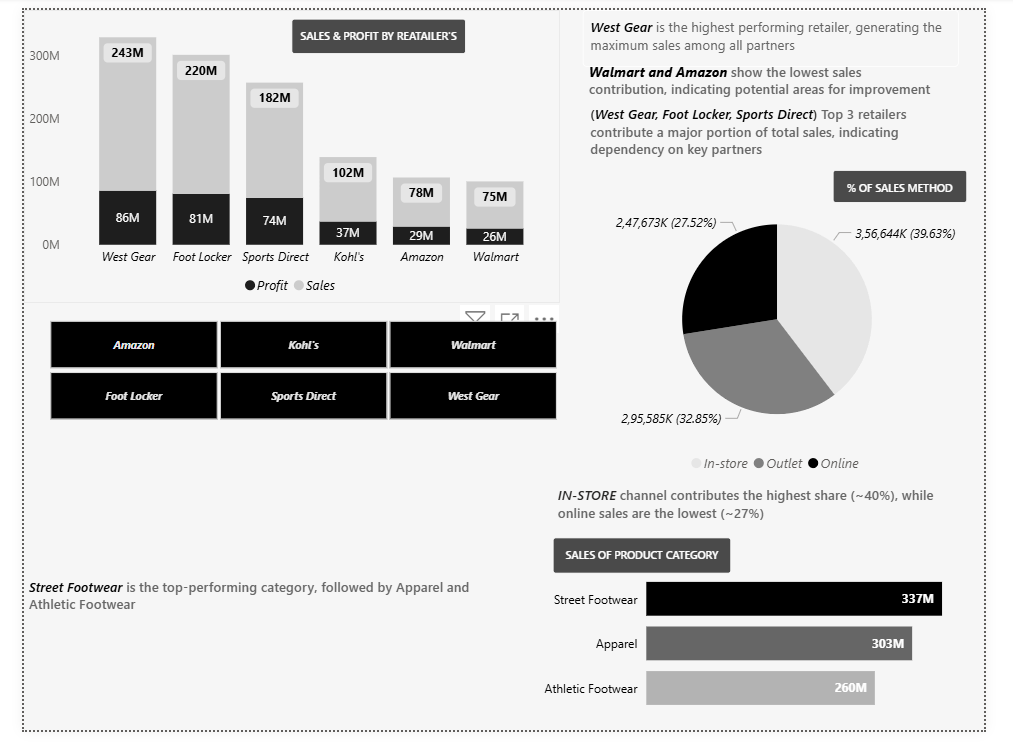

What the dashboard file says about the page in this screenshot:
{"tool":"powerbi","page":{"name":"Retailer report","canvas":[960,720],"ordinal":2},"visuals":[{"type":"pieChart","fields":{"Category":["Sales_details.Sales Method"],"Y":["Sales_details.Total_Sales"]},"box":[557.1,175.7,391.4,295.7],"z":0},{"type":"columnChart","fields":{"Category":["Sales_details.Retailer"],"Y":["Sales_details.Total Profit","Sum(Sales_details.Total Sales)"]},"box":[0,0,535.7,294.3],"z":1000},{"type":"slicer","fields":{"Values":["Sales_details.Retailer"]},"box":[0,304.3,557.1,112.9],"z":2000},{"type":"clusteredBarChart","fields":{"Category":["Sales_details.Product Category"],"Y":["Sales_details.Total_Sales"]},"box":[507.1,541.4,452.9,178.6],"z":3000},{"type":"textbox","box":[528.6,527.1,178.6,35.7],"z":4000},{"type":"textbox","box":[808.6,160,134.3,32.9],"z":5000},{"type":"textbox","box":[267.8,8.9,174.4,35.6],"z":6000},{"type":"textbox","box":[558.6,0,375.7,57.1],"z":7000},{"type":"textbox","box":[0,562.9,480,45.7],"z":8000},{"type":"textbox","box":[528.6,471.4,420,51.4],"z":9000},{"type":"textbox","box":[560,47.1,361.4,62.9],"z":10000},{"type":"textbox","box":[561.4,90,341.4,67.1],"z":11000}]}

Visuals, with their boxes in screenshot pixels (x1, y1, x2, y2), scaled from the page's 960x720 canvas onto the 1013x750 screenshot:
pieChart - Sales_details.Sales Method x Sales_details.Total_Sales: select_region(588, 183, 1001, 491)
columnChart - Sales_details.Retailer x Sales_details.Total Profit: select_region(0, 0, 565, 307)
slicer - Sales_details.Retailer: select_region(0, 317, 588, 435)
clusteredBarChart - Sales_details.Product Category x Sales_details.Total_Sales: select_region(535, 564, 1012, 749)
textbox: select_region(558, 549, 746, 586)
textbox: select_region(853, 167, 995, 201)
textbox: select_region(283, 9, 467, 46)
textbox: select_region(589, 0, 986, 59)
textbox: select_region(0, 586, 506, 634)
textbox: select_region(558, 491, 1001, 545)
textbox: select_region(591, 49, 972, 115)
textbox: select_region(592, 94, 953, 164)
